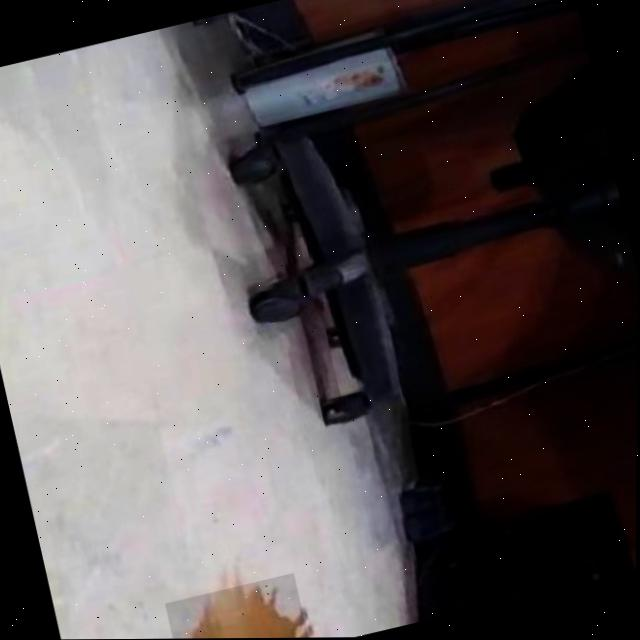spillage: (189, 586, 307, 639)
